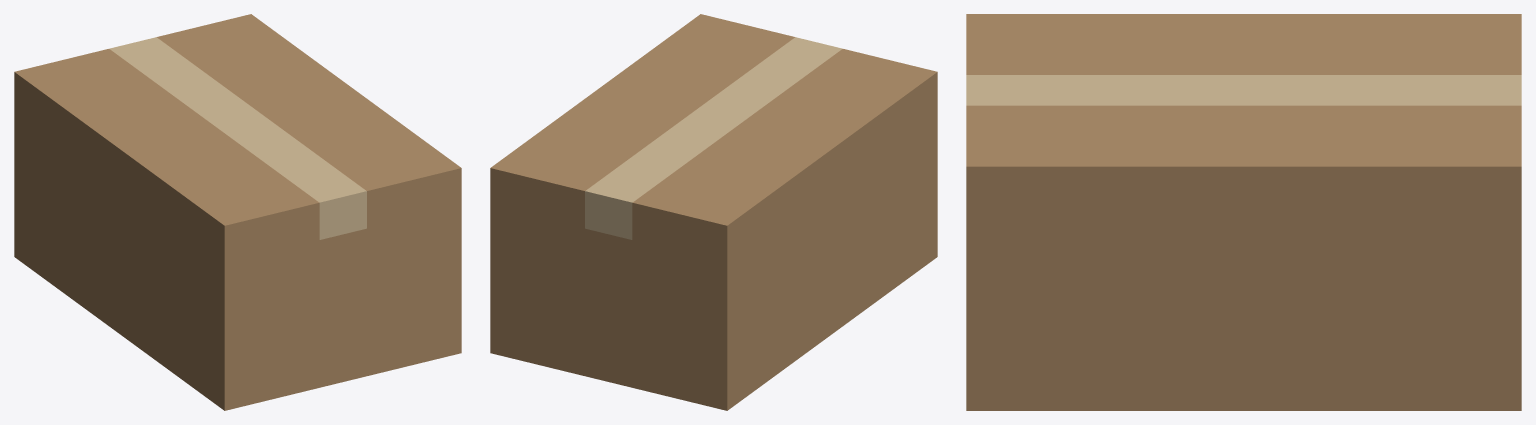
Rendered from carton_box.fbx.
3 renders of one model, left to right at view 1: azimuth 30°, elevation 25°; view 2: azimuth 150°, elevation 25°; view 3: azimuth 270°, elevation 25°, orthographic. The views are drawn at different scales.
Parts seen in each view (by area): view 1: carton_box; view 2: carton_box; view 3: carton_box.
Boxes of the visible parts, x1,y1,x2,y2 form: carton_box: (14, 14, 461, 410); carton_box: (490, 14, 937, 410); carton_box: (966, 14, 1521, 410).
Bounding box in the file's own units: 36.63 × 27.35 × 56.33.
1 material, 1 textured.
